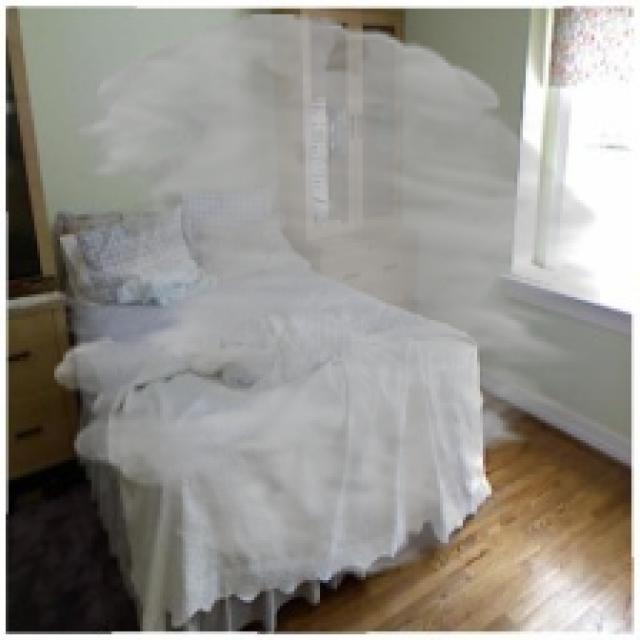Smoke: (54, 14, 600, 577)
